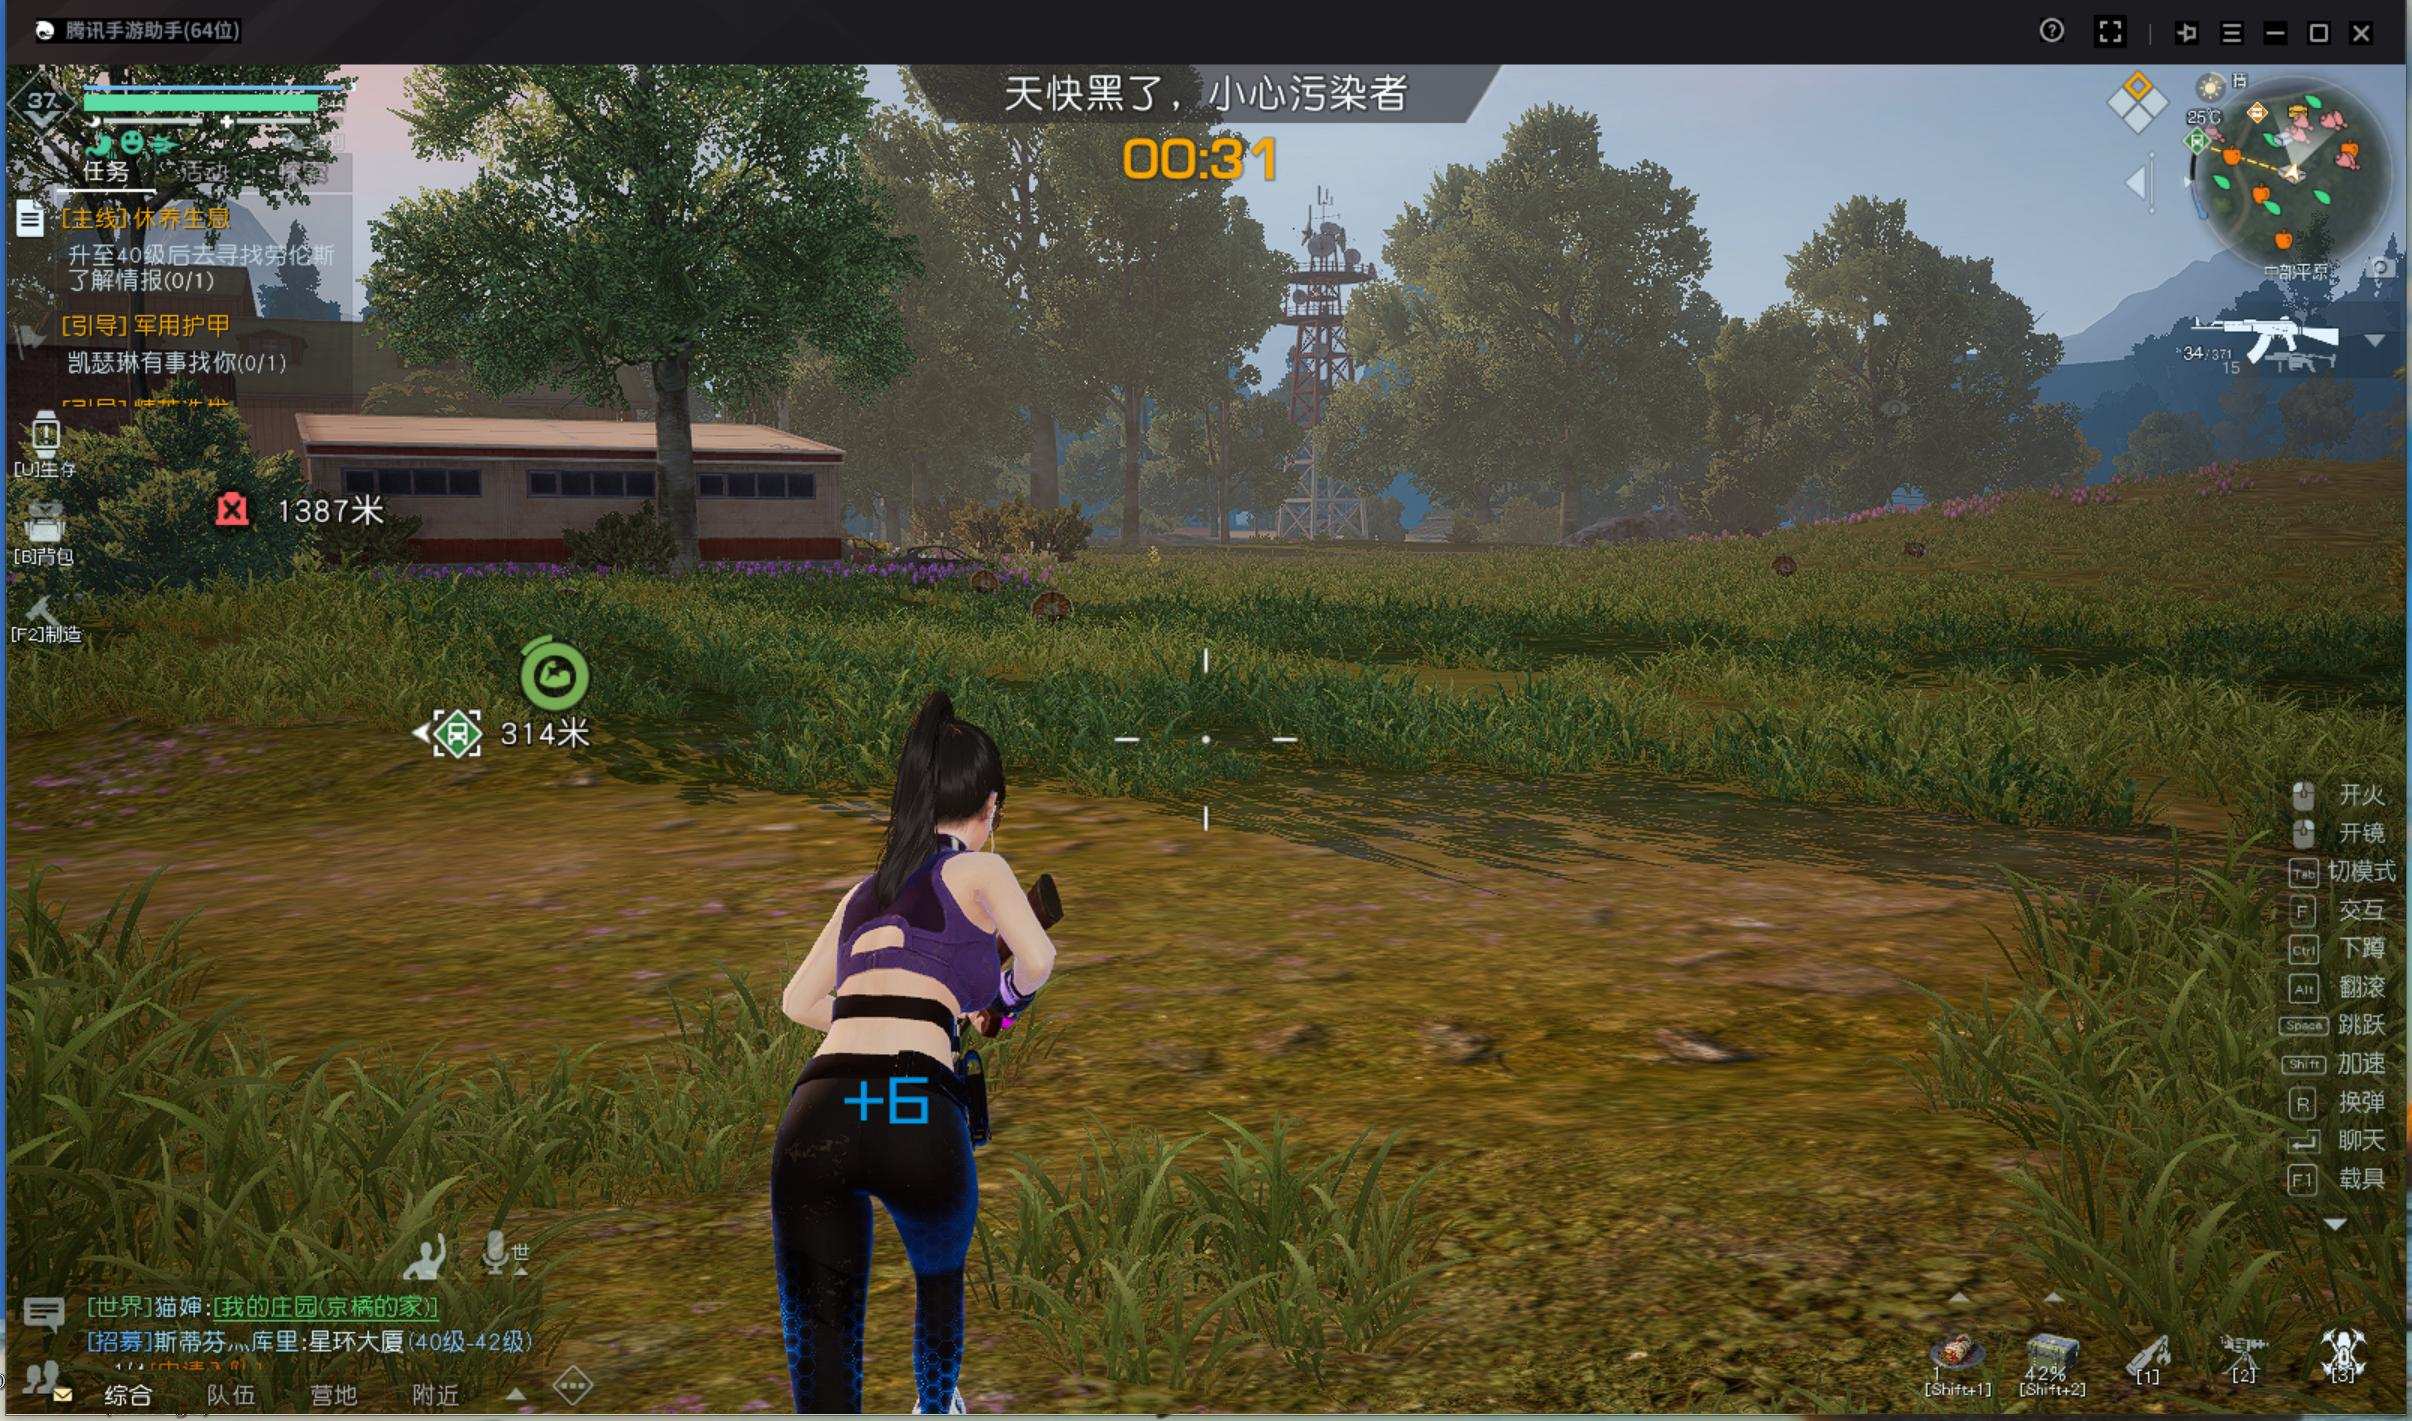tree: (638, 365, 721, 573), (1017, 408, 1083, 528), (1115, 414, 1154, 567), (1539, 475, 1590, 558)
